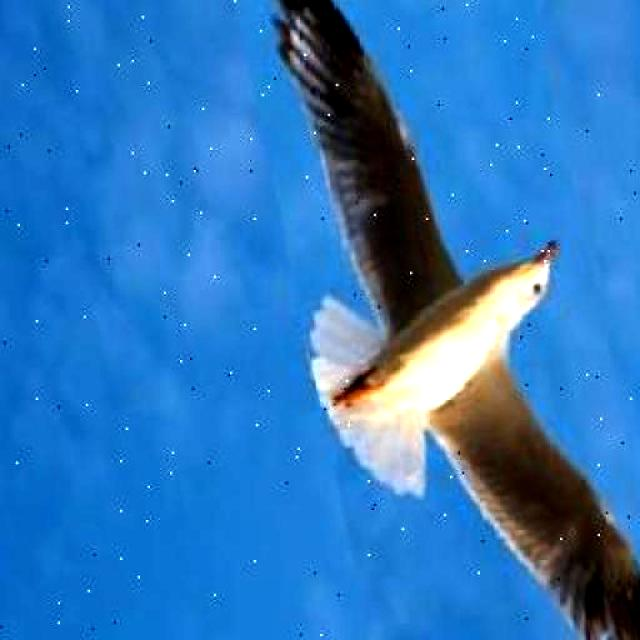airplane: (225, 0, 640, 640)
